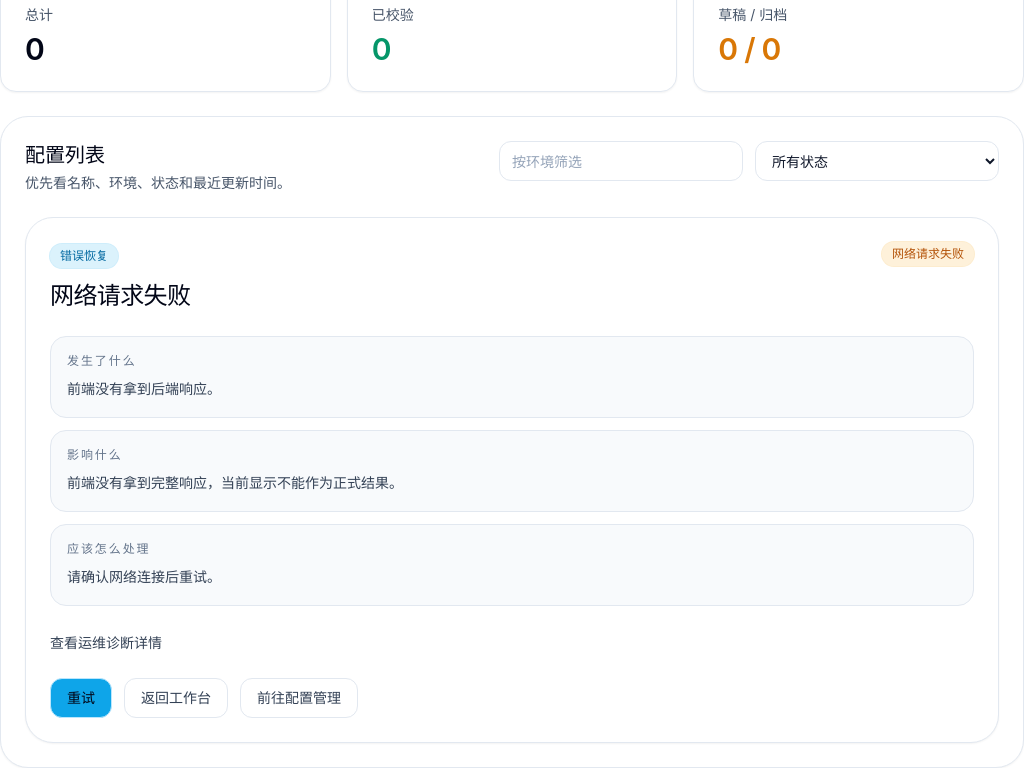
Test: ProfileListPage › shows a retryable error state
(page scrolled)
Check: the heading "网络请求失败" is shown, box [50,280,190,312]
Click the button "查看运维诊断详情" at (106, 643), box [50,633,162,653]
(page scrolled)
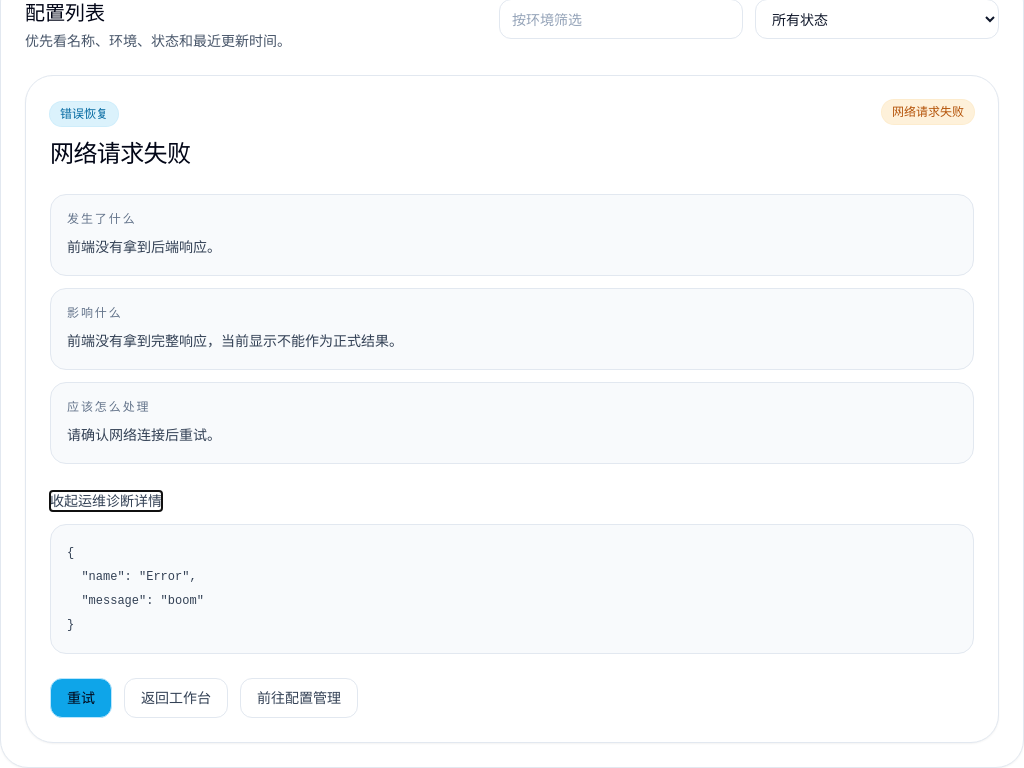
Check: the text "{ \"name\": \"Error\", \"message\": \"boom\" }" is shown, box [50,524,974,654]
